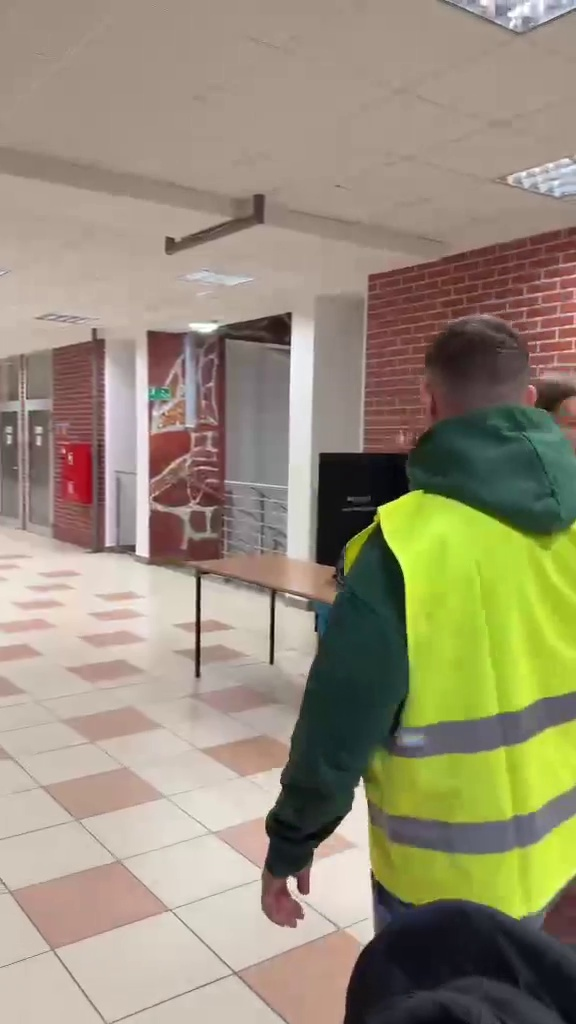vest: (272, 306, 576, 956)
